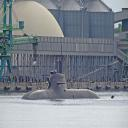submarine: (23, 47, 117, 100)
